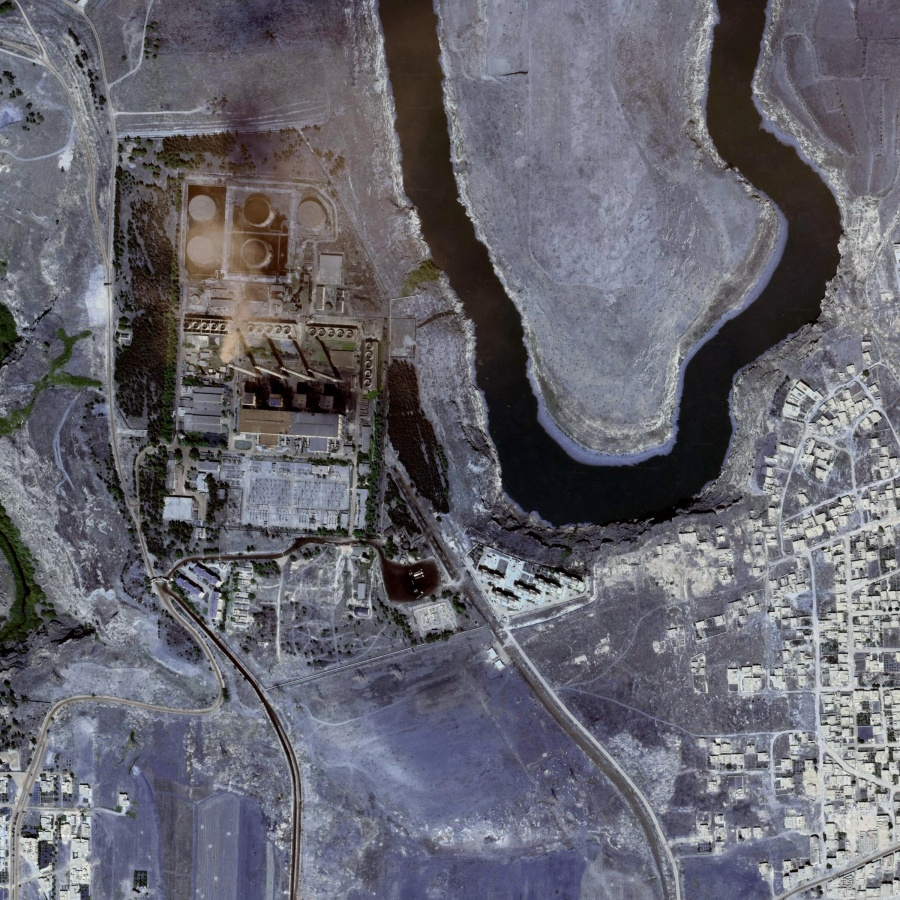PowerPlant: (124, 131, 502, 644)
